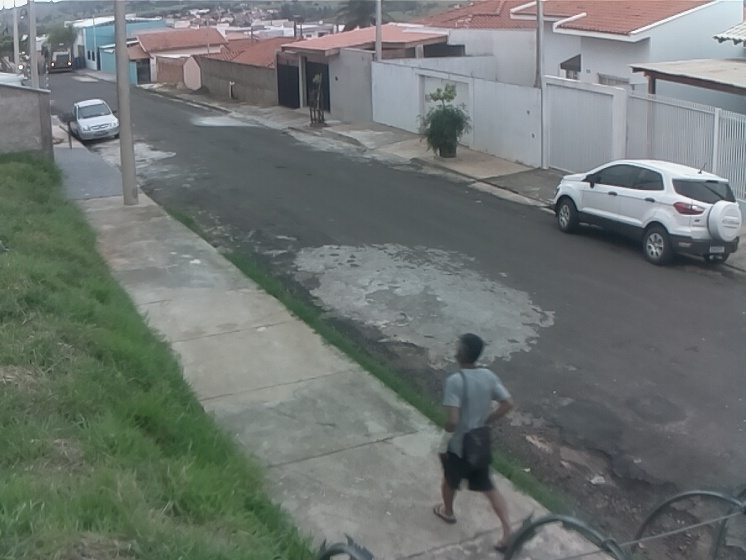person: (431, 332, 525, 556)
